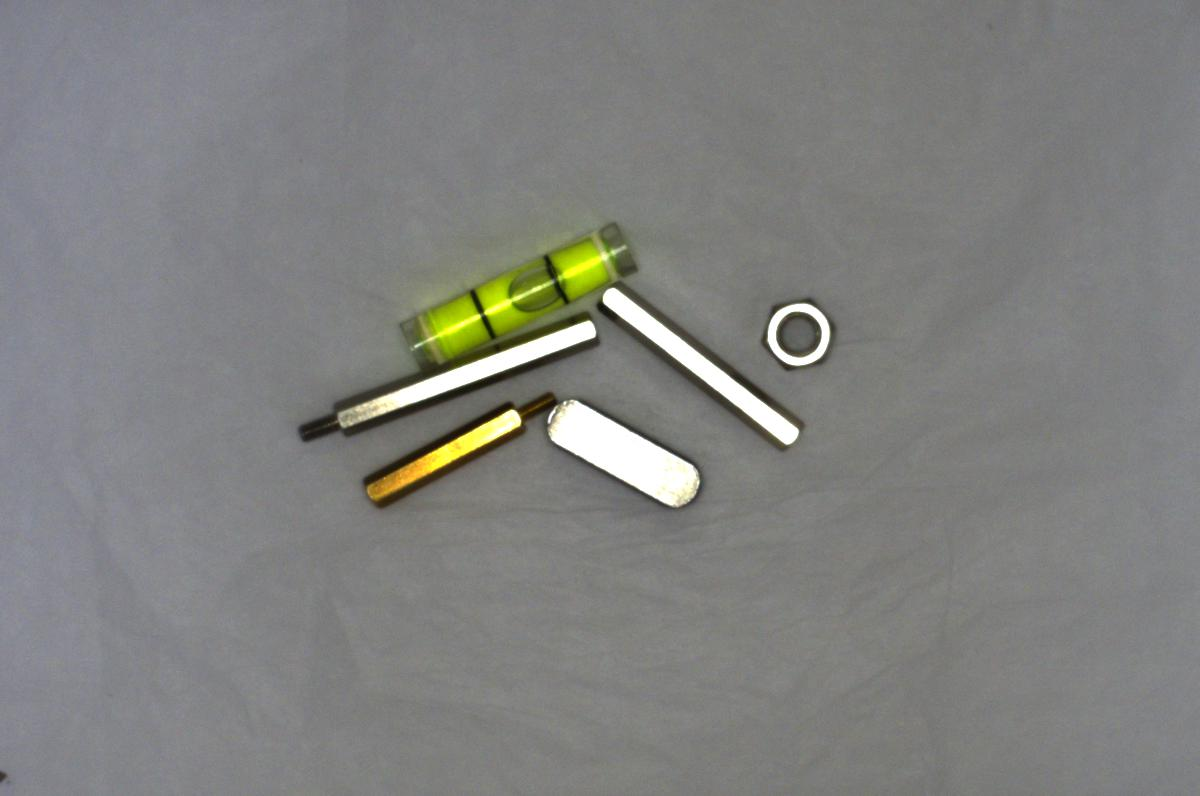Double hexagonal column: (597, 282, 806, 451)
Hexagon nut: (751, 283, 834, 380)
Hexagon pillar: (356, 391, 565, 509)
Hexagonal steel column: (292, 306, 597, 444)
Horizontal bubble: (385, 219, 648, 367)
Keybar: (535, 391, 707, 515)
